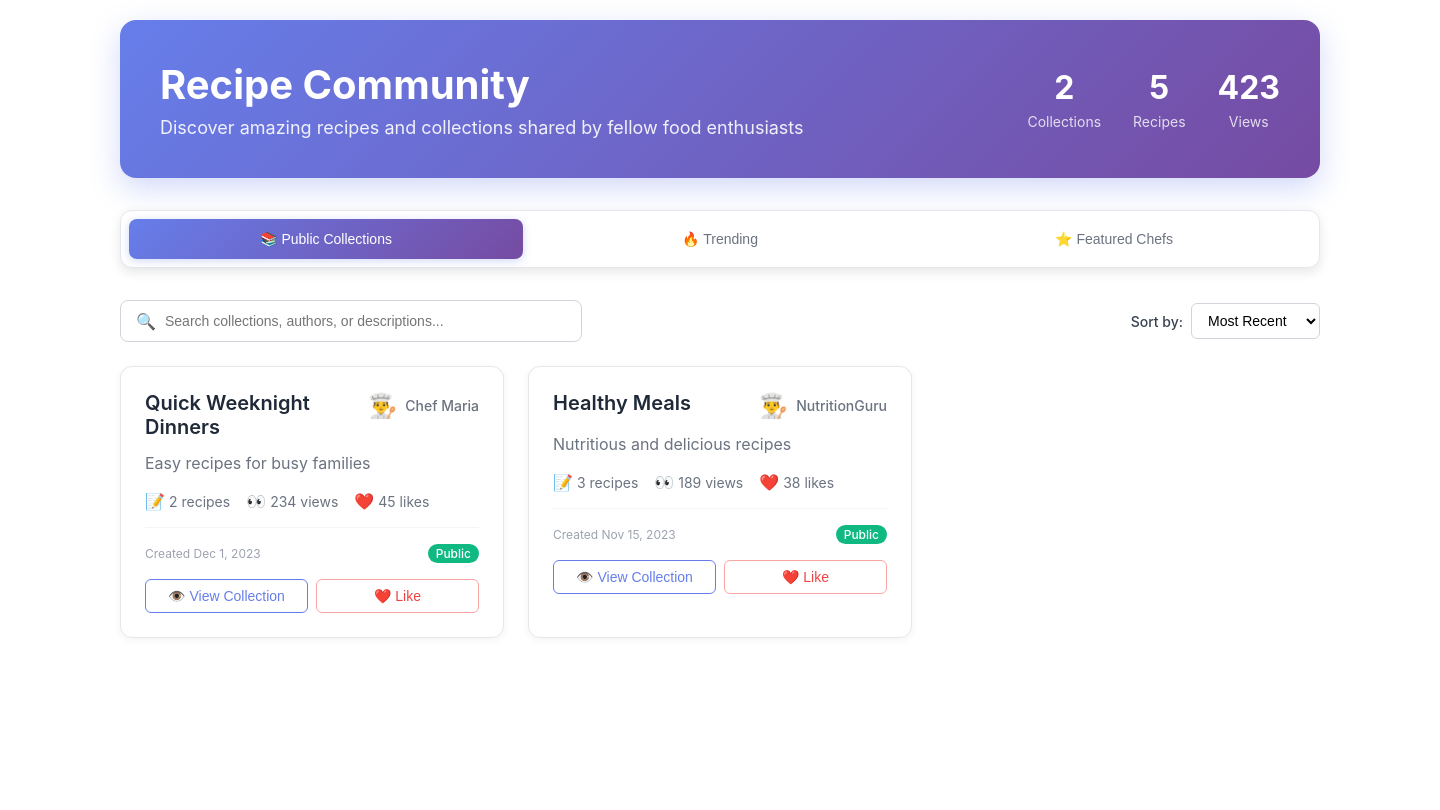
Test: Community Component › Featured Tab › should display featured chefs when tab is clicked
Click the button "⭐ Featured Chefs": (1114, 239) [917, 219, 1311, 259]
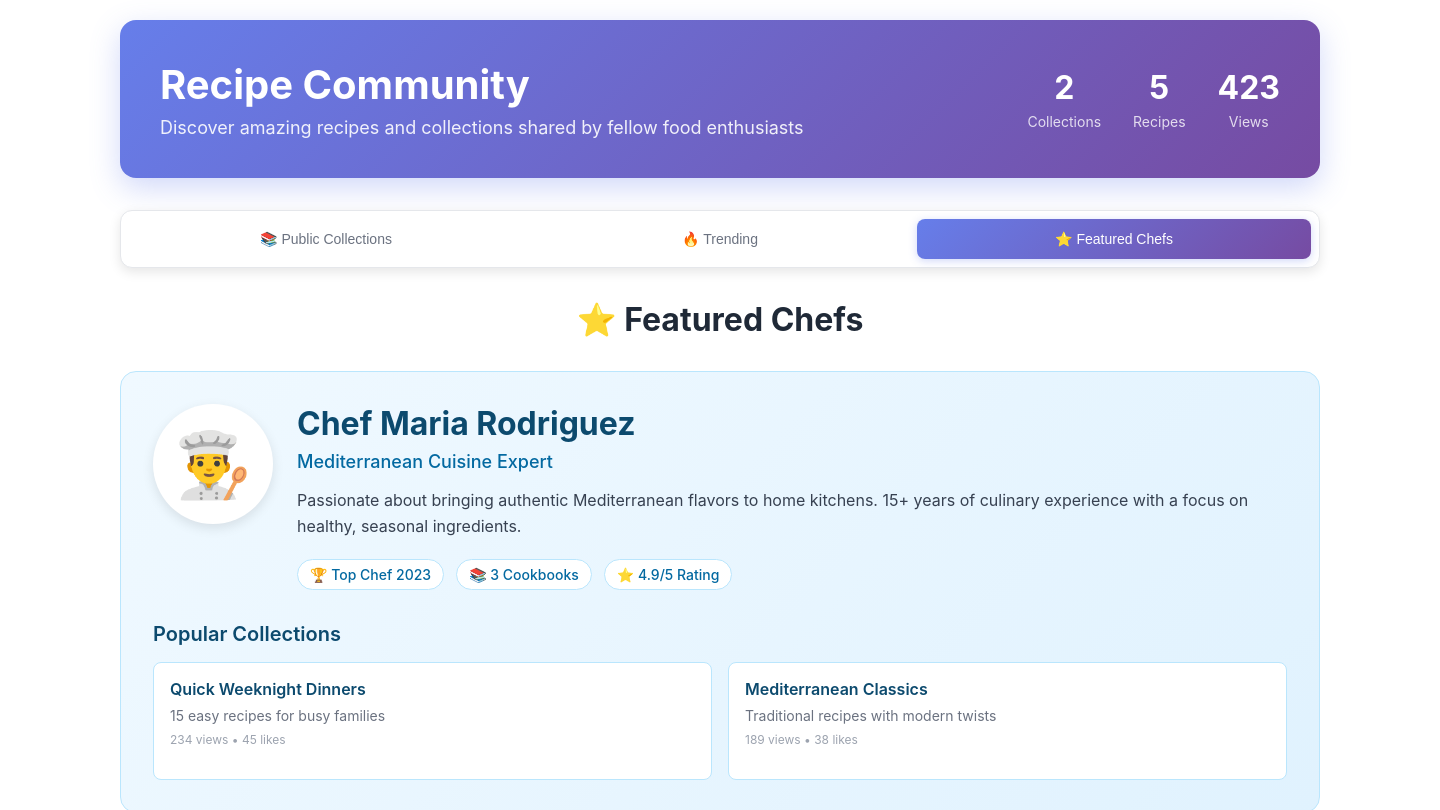
Now the heading "⭐ Featured Chefs" is shown, box [577, 300, 863, 339]
Now the heading "Chef Maria Rodriguez" is shown, box [297, 404, 636, 443]
Now the text "Mediterranean Cuisine Expert" is shown, box [297, 451, 553, 472]
